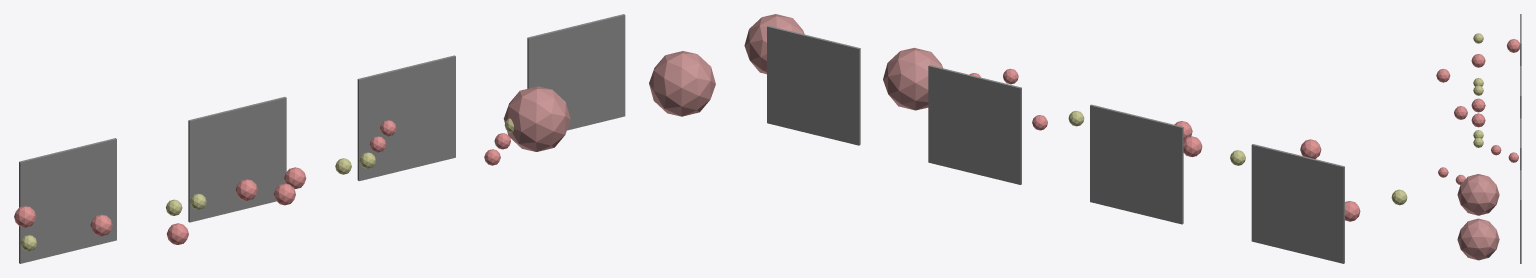
Rendered from cell_division.glb.
The picture shows the model from 3 angles, left to right: view 1: azimuth 30°, elevation 25°; view 2: azimuth 150°, elevation 25°; view 3: azimuth 270°, elevation 25°; orthographic projection. The views are drawn at different scales.
Parts seen in each view (by area): view 1: world; view 2: world; view 3: world.
Boxes of the visible parts, left/top/right/bottom form: world: left=14, top=14, right=715, bottom=263; world: left=744, top=14, right=1407, bottom=263; world: left=1436, top=14, right=1521, bottom=263.
Size of the model in its own units: 14.25 by 2 by 2.43.
